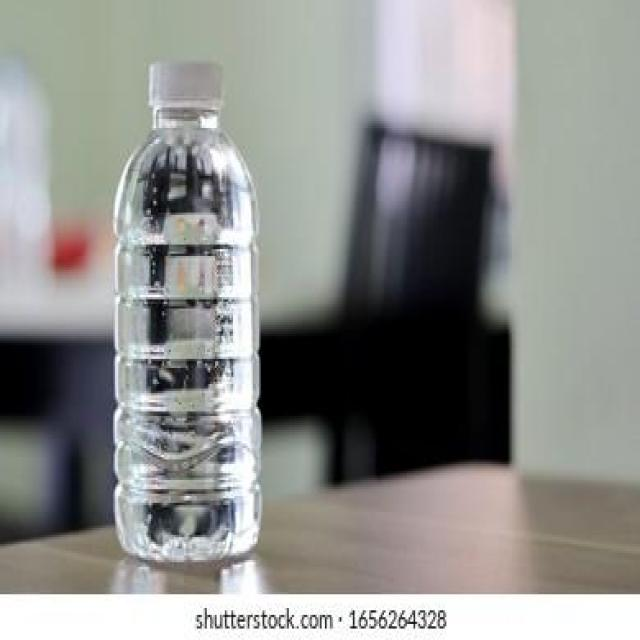bottle: (96, 49, 271, 572)
